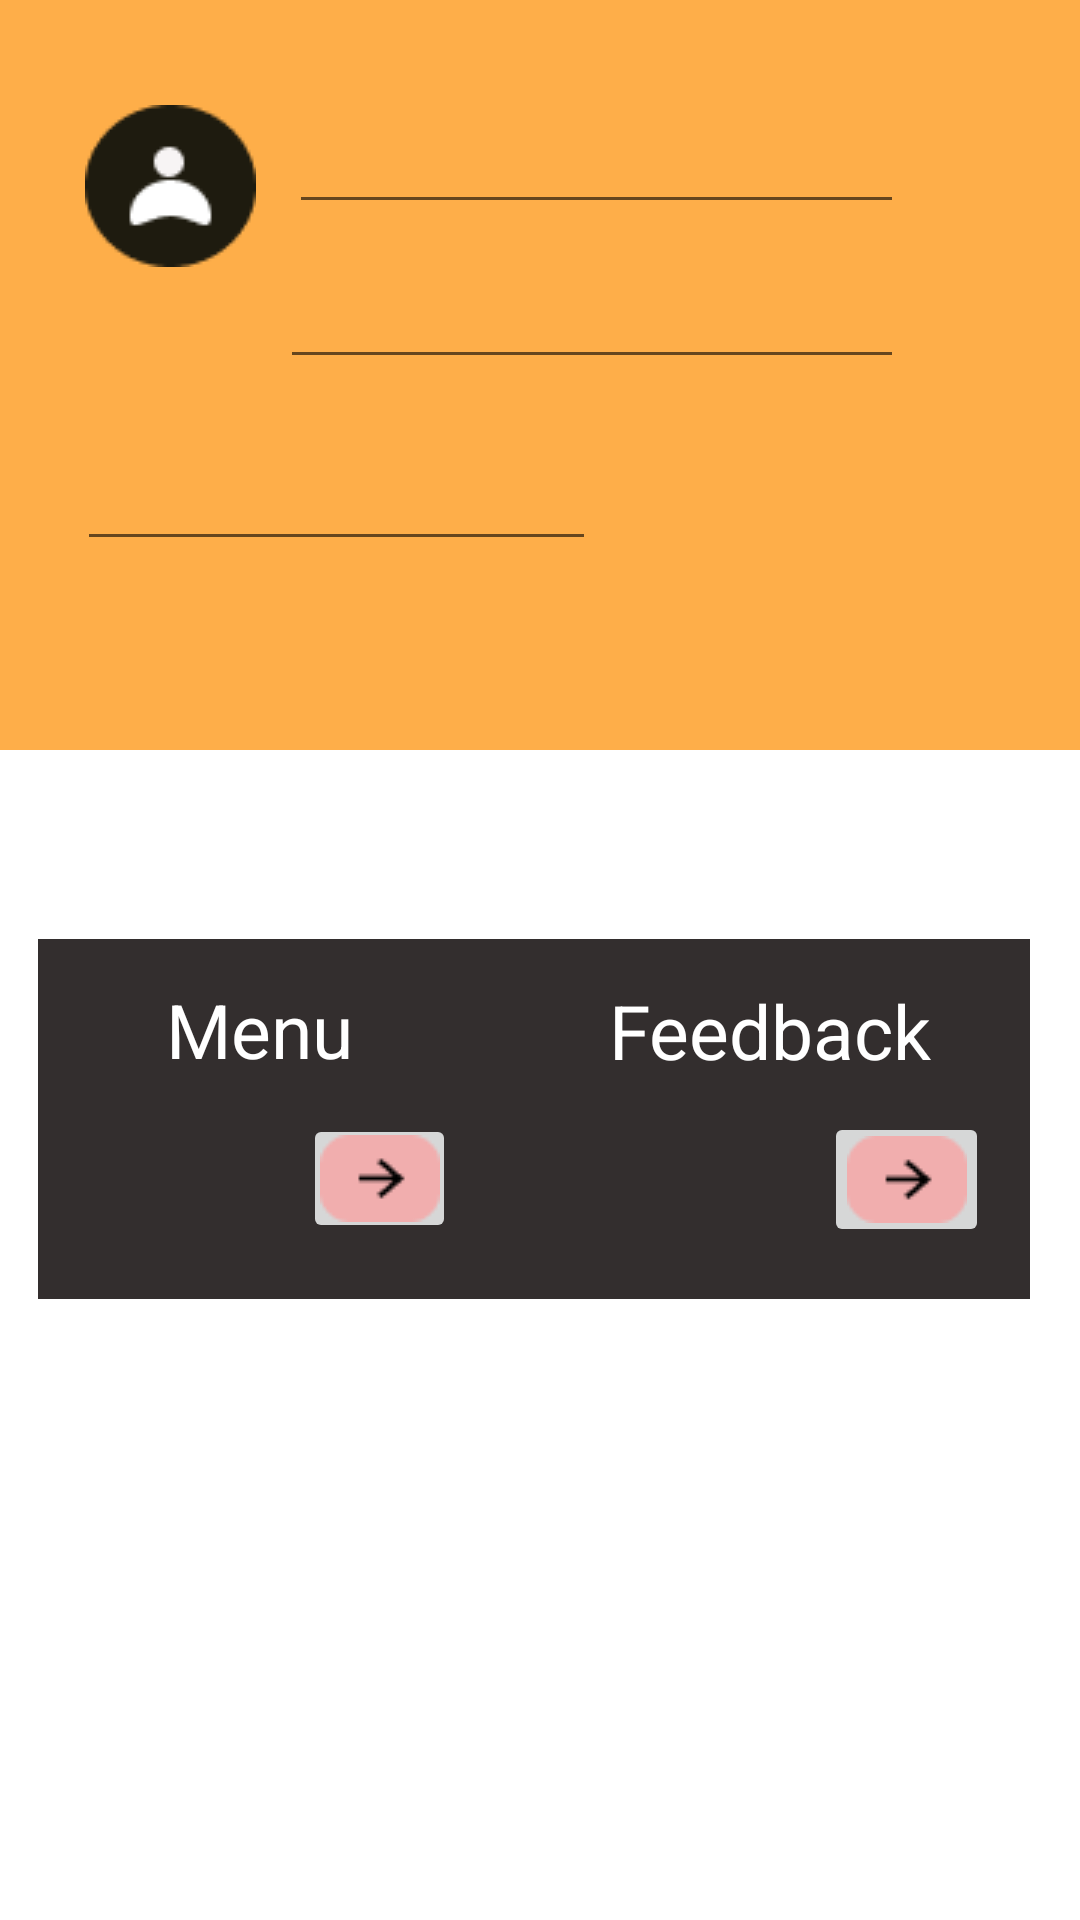

Icons on this 1080px x 1920px Android screen, each with the point to tap as point (x, y):
arrow: point (906, 1179), point (379, 1178)
